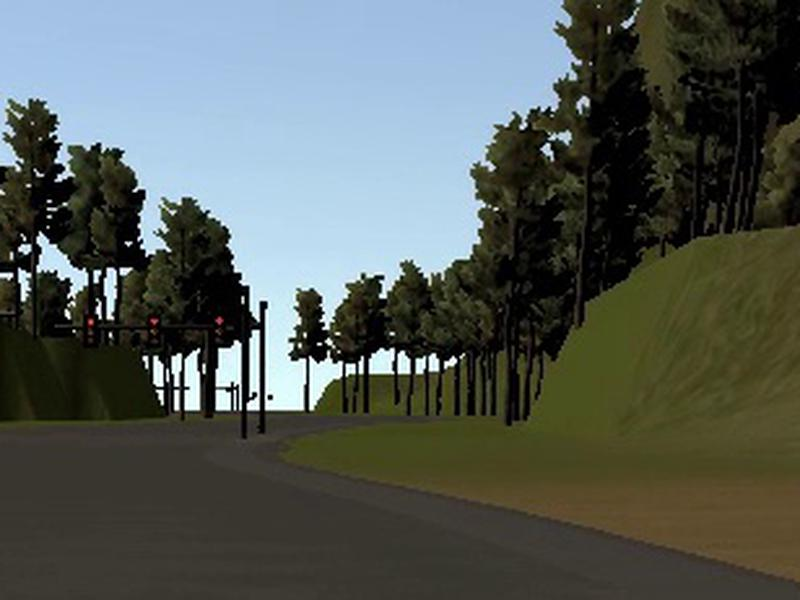Red: (82, 312, 100, 347), (145, 314, 163, 348), (211, 314, 227, 349)
